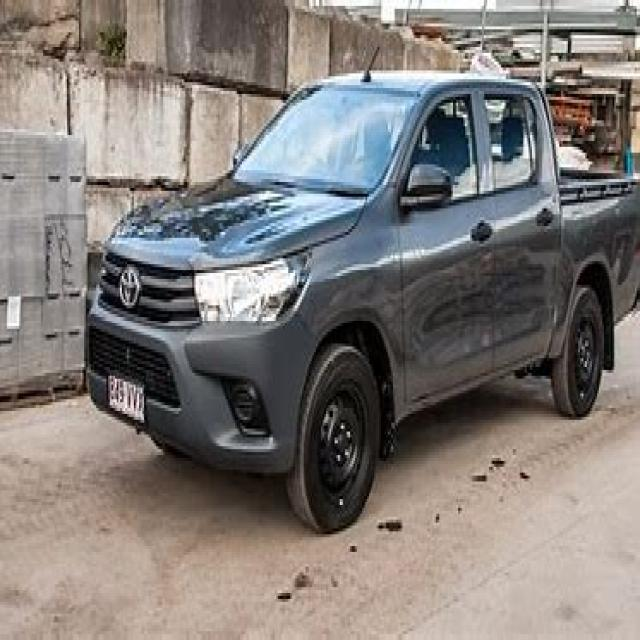light_vehicle: (77, 44, 638, 526)
